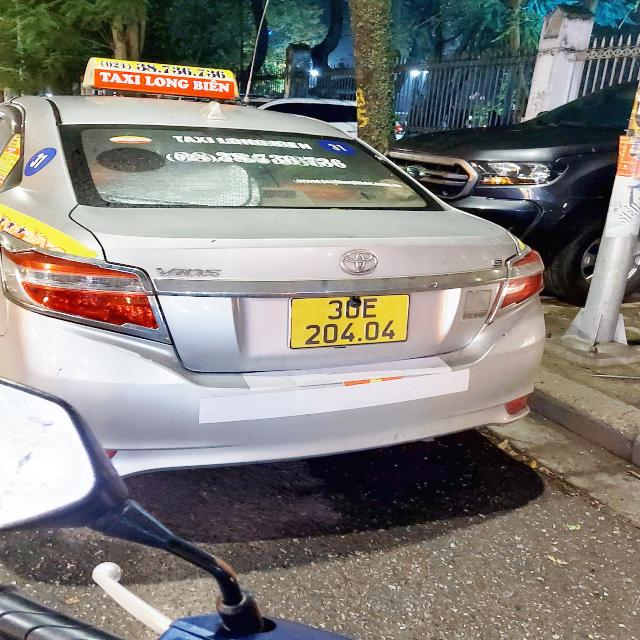license_plate: (291, 290, 419, 357)
